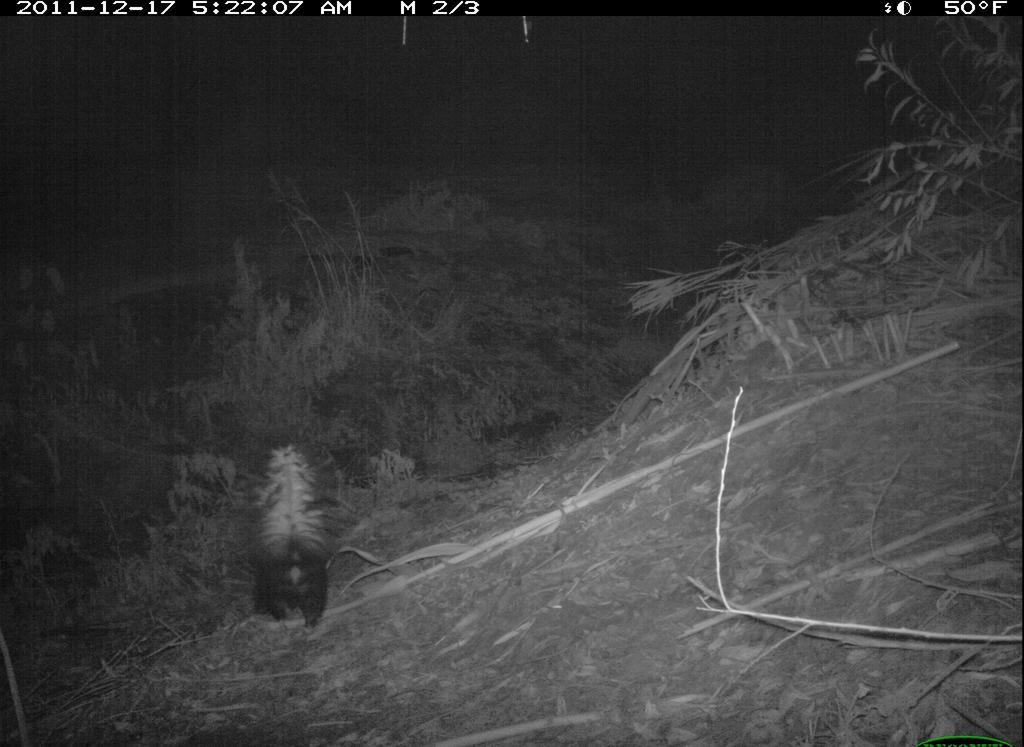skunk: (246, 427, 365, 638)
